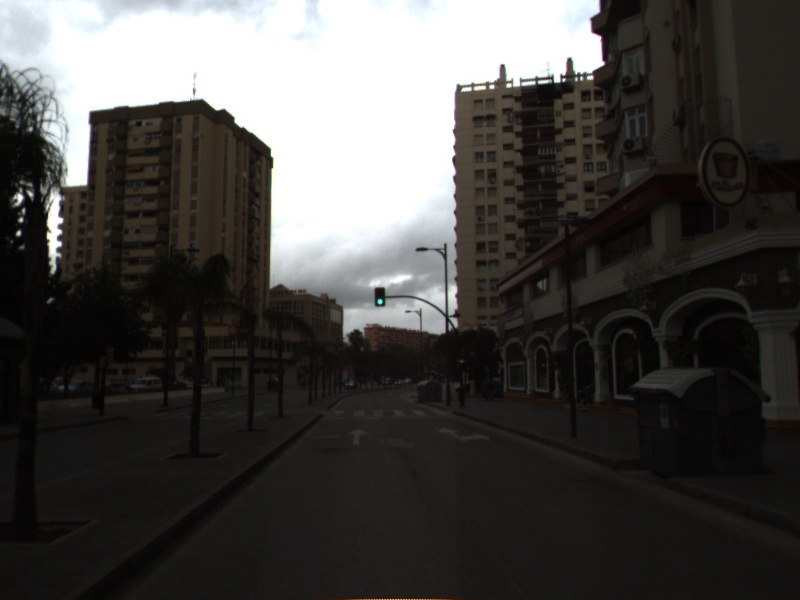STRAIGHT: (344, 426, 371, 447)
STRAIGHT_RIGHT: (437, 425, 492, 446)
